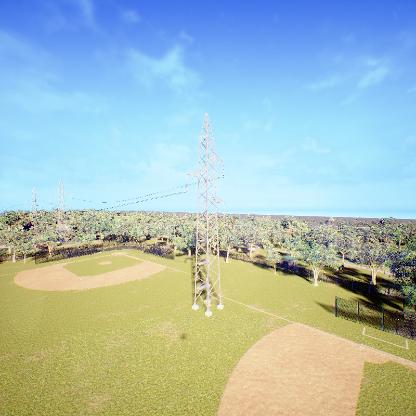tower: (181, 117, 229, 319)
